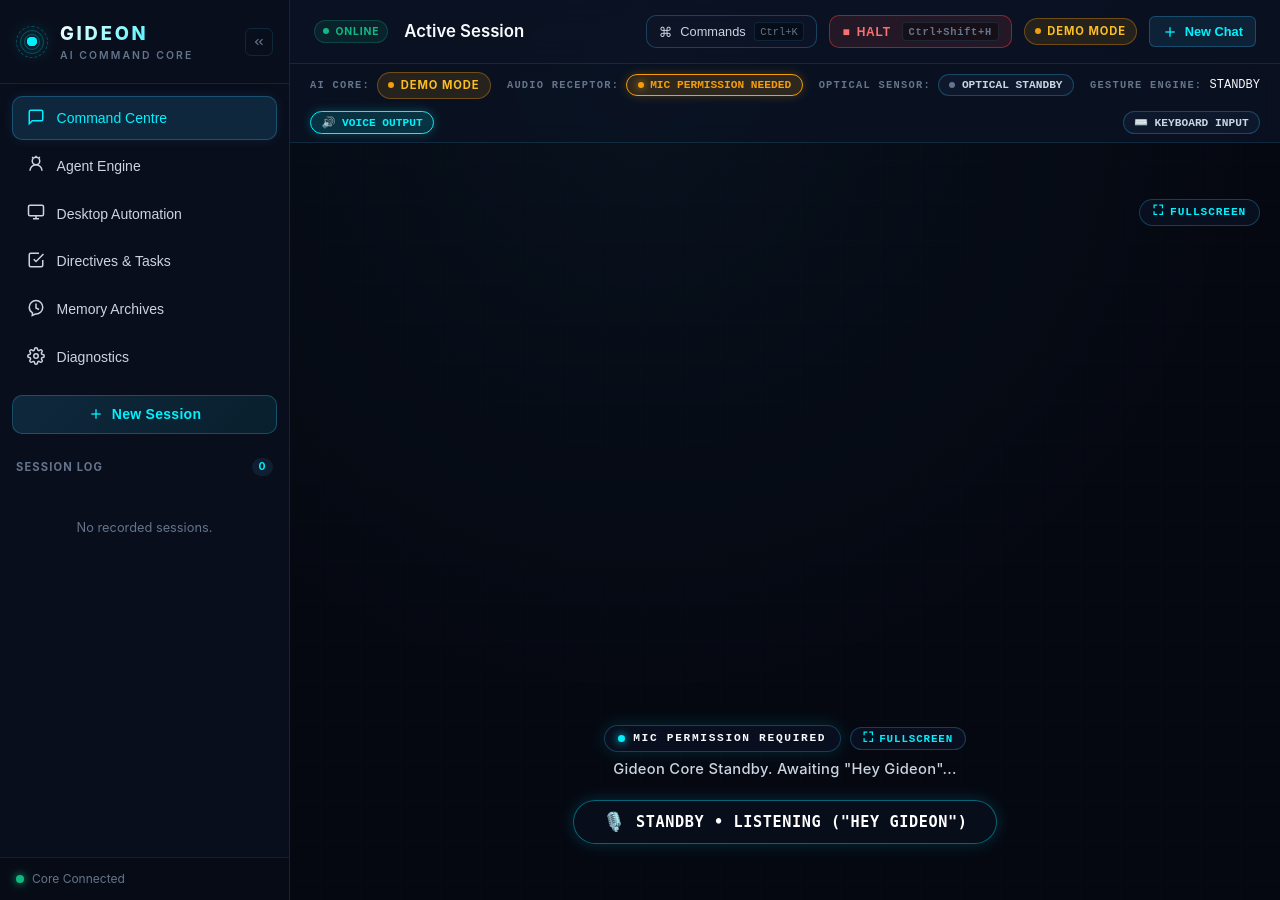
Scenario: navigates to Memory Archives and renders saved memory item
Click the button "Memory Archives" at coordinates (144, 309), box [12, 287, 277, 331]
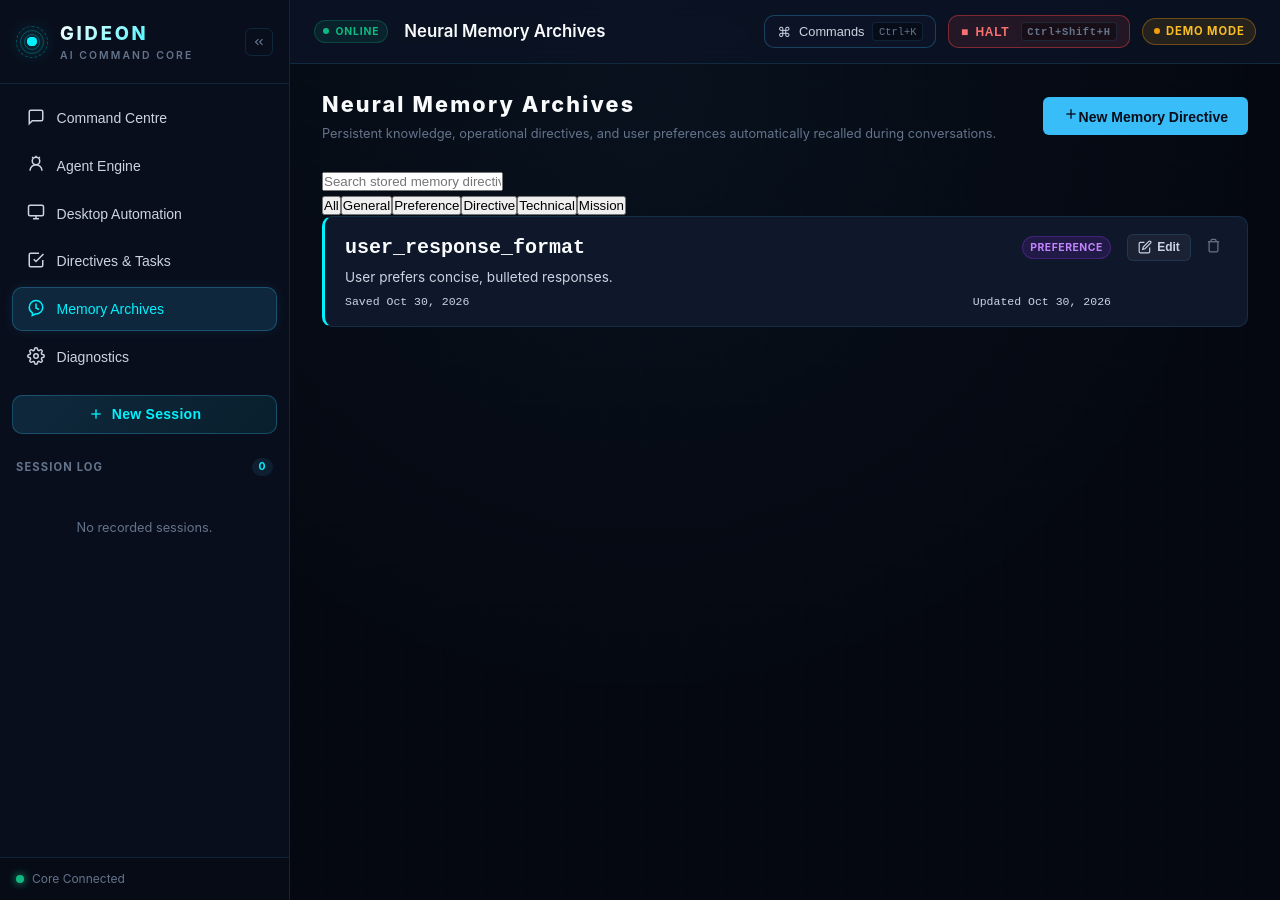
Now the 2nd heading "Neural Memory Archives" is shown, box [322, 91, 635, 117]
Now the heading "user_response_format" is shown, box [345, 233, 585, 263]
Now the text "User prefers concise, bulleted responses." is shown, box [345, 269, 613, 285]
